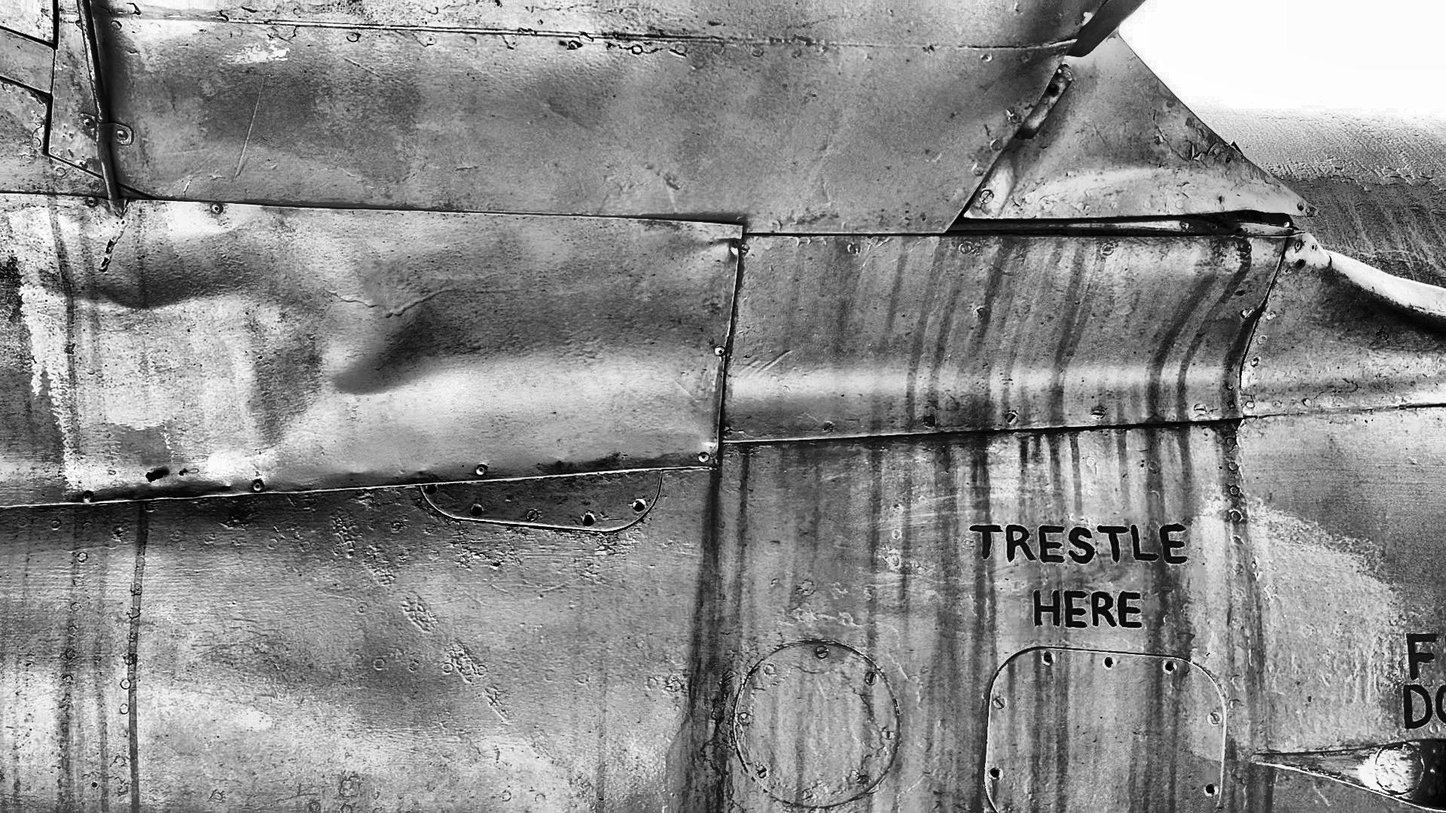dent: (1025, 168, 1270, 213), (331, 351, 497, 396), (45, 283, 215, 313), (95, 482, 274, 503)
missing-head: (580, 510, 596, 528), (631, 498, 646, 512), (1041, 654, 1057, 666), (470, 506, 485, 518), (989, 768, 1003, 780), (1204, 784, 1218, 796), (1163, 661, 1177, 673), (1102, 658, 1117, 669), (426, 483, 438, 495), (1295, 259, 1307, 270)
scratch: (233, 80, 266, 180), (754, 350, 789, 377)
